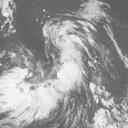cyclone: (14, 17, 96, 104)
